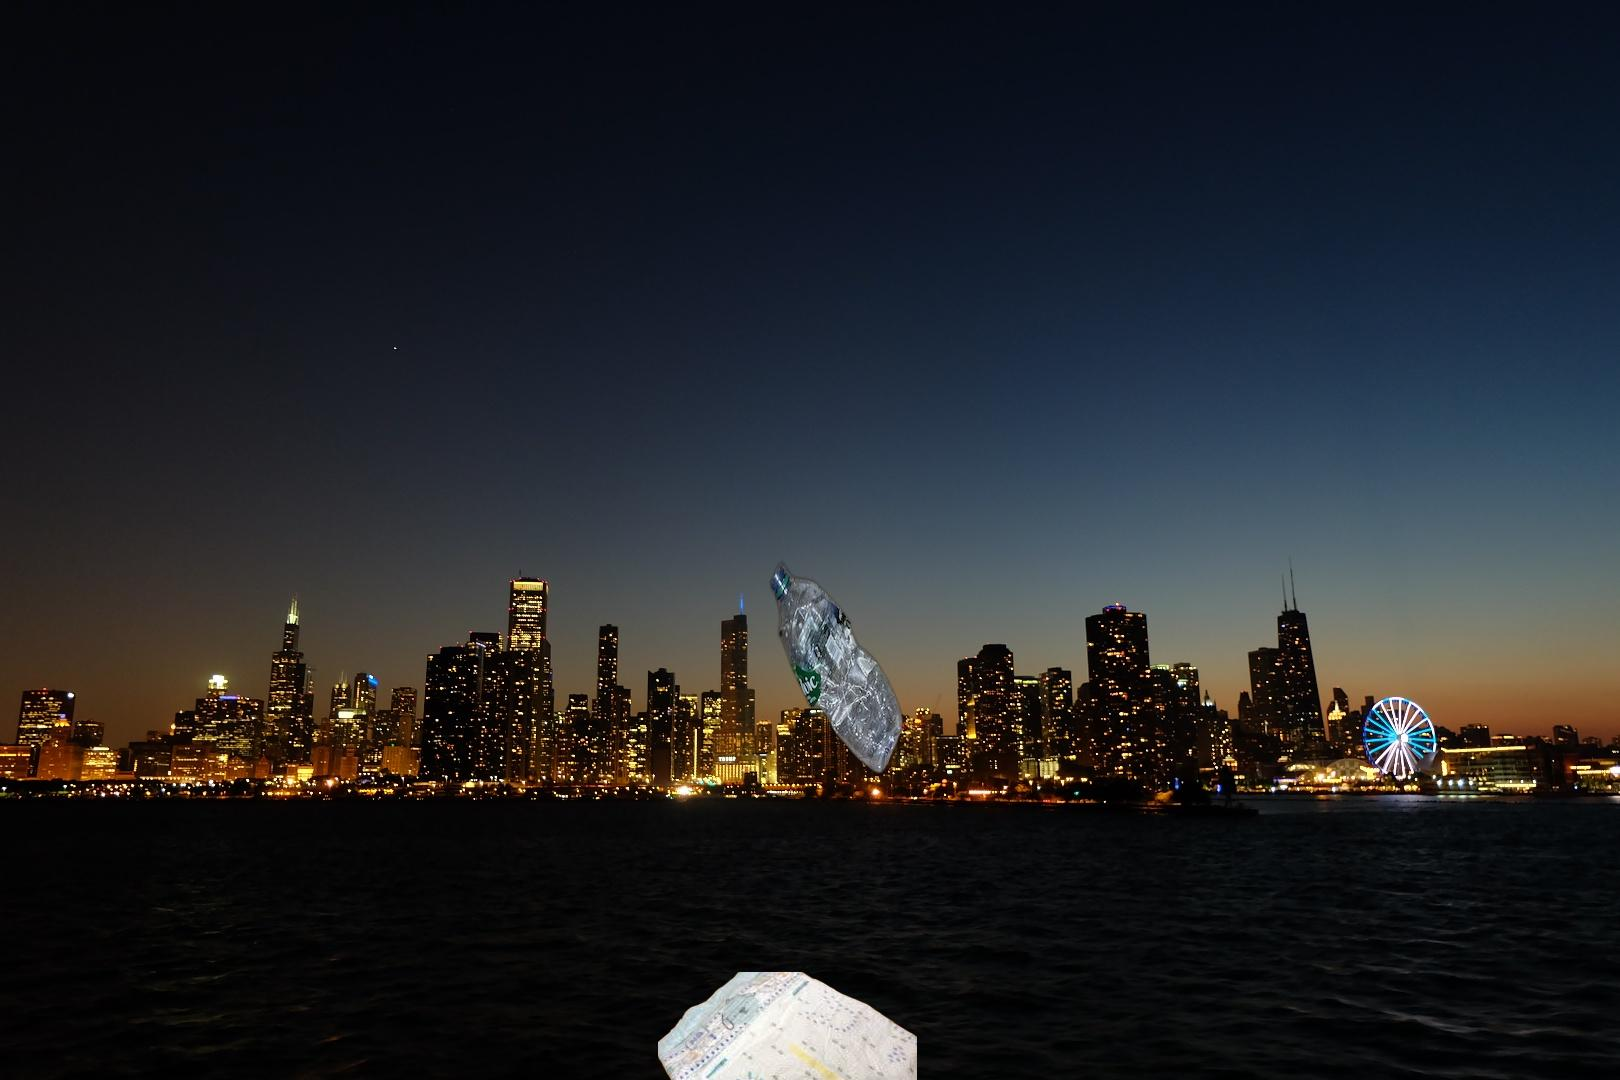plastic-bottles: (767, 557, 905, 777)
trash: (658, 972, 917, 1080)
